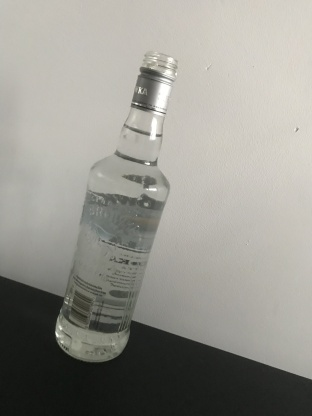nakretka: (129, 48, 179, 118)
